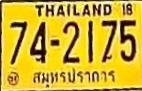1: (87, 20, 92, 62)
2: (62, 21, 78, 63)
4: (29, 21, 46, 62)
5: (119, 19, 135, 61)
7: (10, 21, 26, 64), (101, 19, 116, 62)
SPK: (30, 68, 118, 85)
